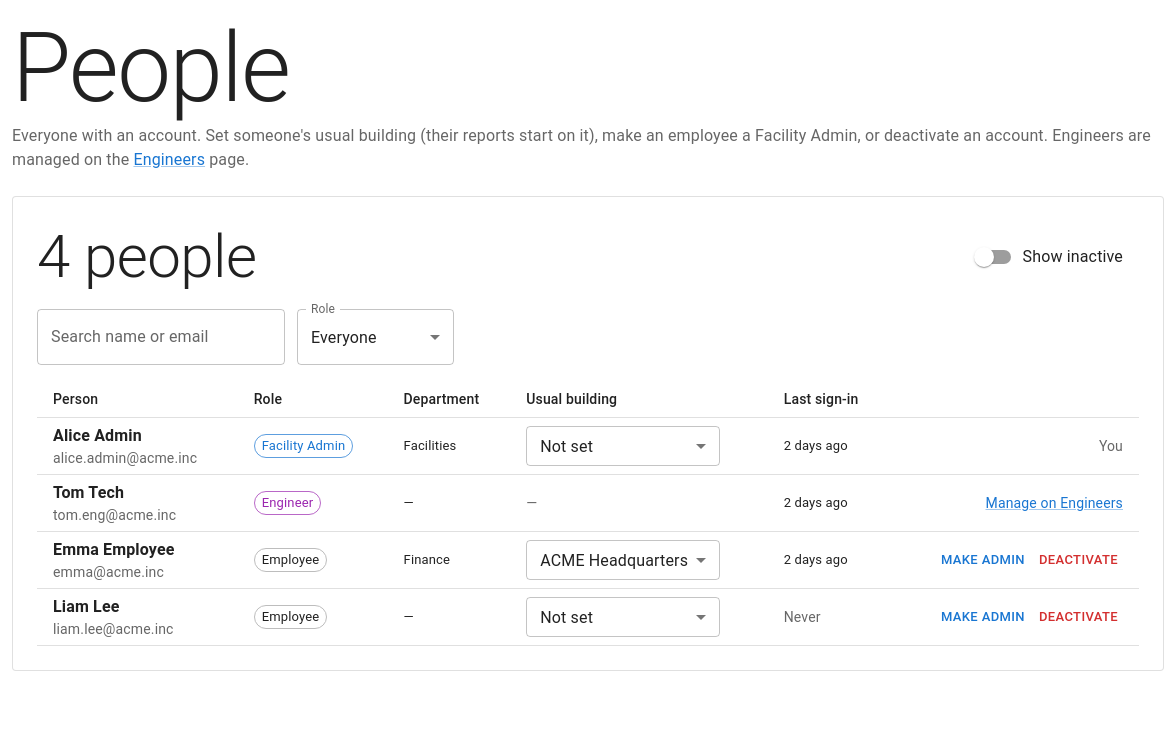
Test: People admin page › shows a refused building change right above the picker
This screenshot has width=1164, height=732.
Select "Innovation Hub" in the dropdown named "Liam Lee's usual building". click: (623, 617)
box: [526,597,720,637]
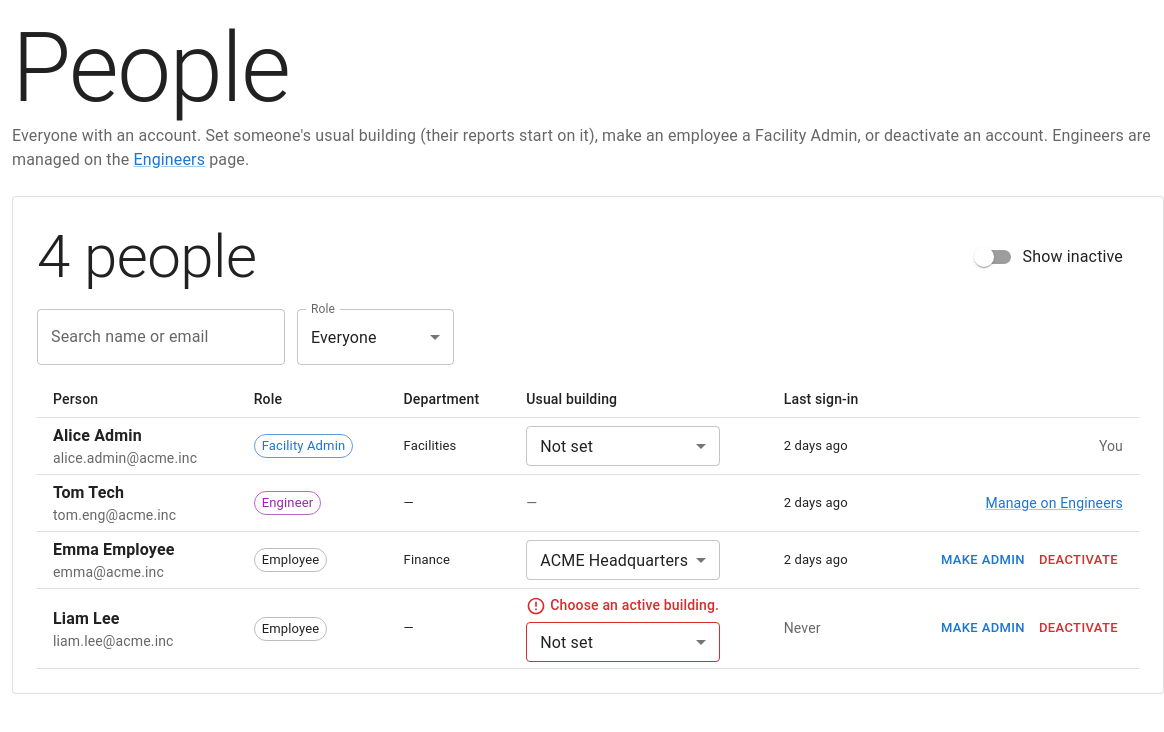
Check: the text "Choose an active building." is shown, box [550,595,719,615]
